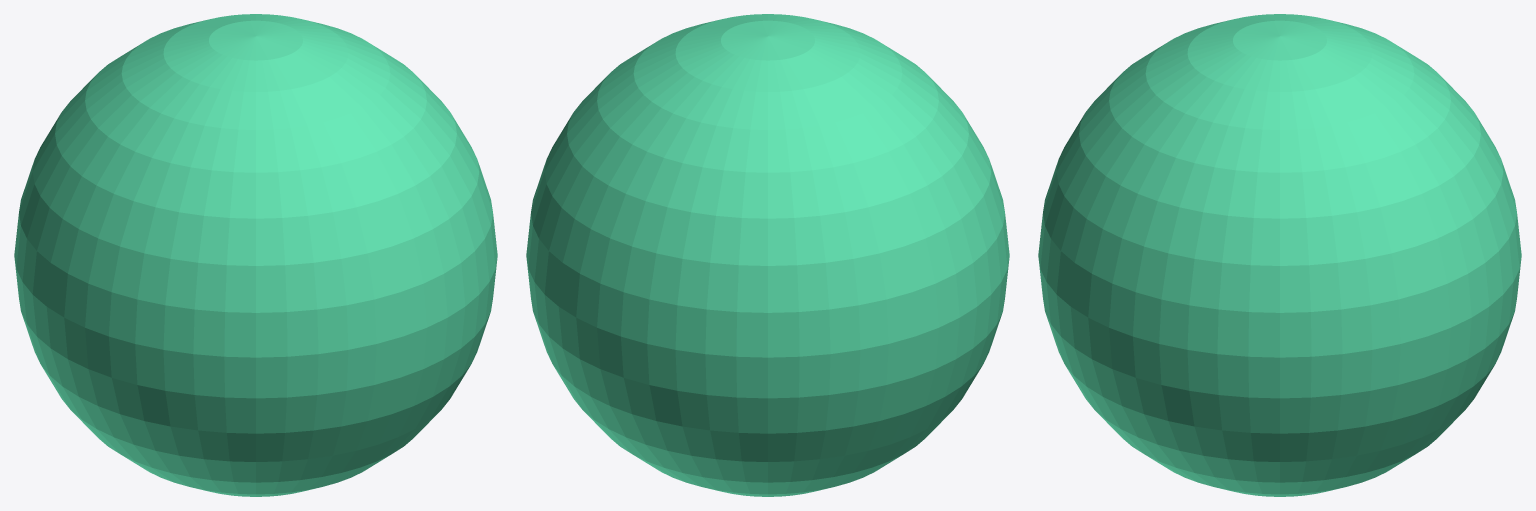
File: 小队模型—临时.fbx
3 views of the same model, side by side, from view 1: azimuth 30°, elevation 25°; view 2: azimuth 150°, elevation 25°; view 3: azimuth 270°, elevation 25° (orthographic).
Visible parts, largest first — view 1: 球体; view 2: 球体; view 3: 球体.
Boxes of the visible parts, <box> form: 球体: <box>14,14,497,496</box>; 球体: <box>526,14,1009,496</box>; 球体: <box>1038,14,1521,496</box>.
Bounding box in the file's own units: 200 × 200 × 200.
